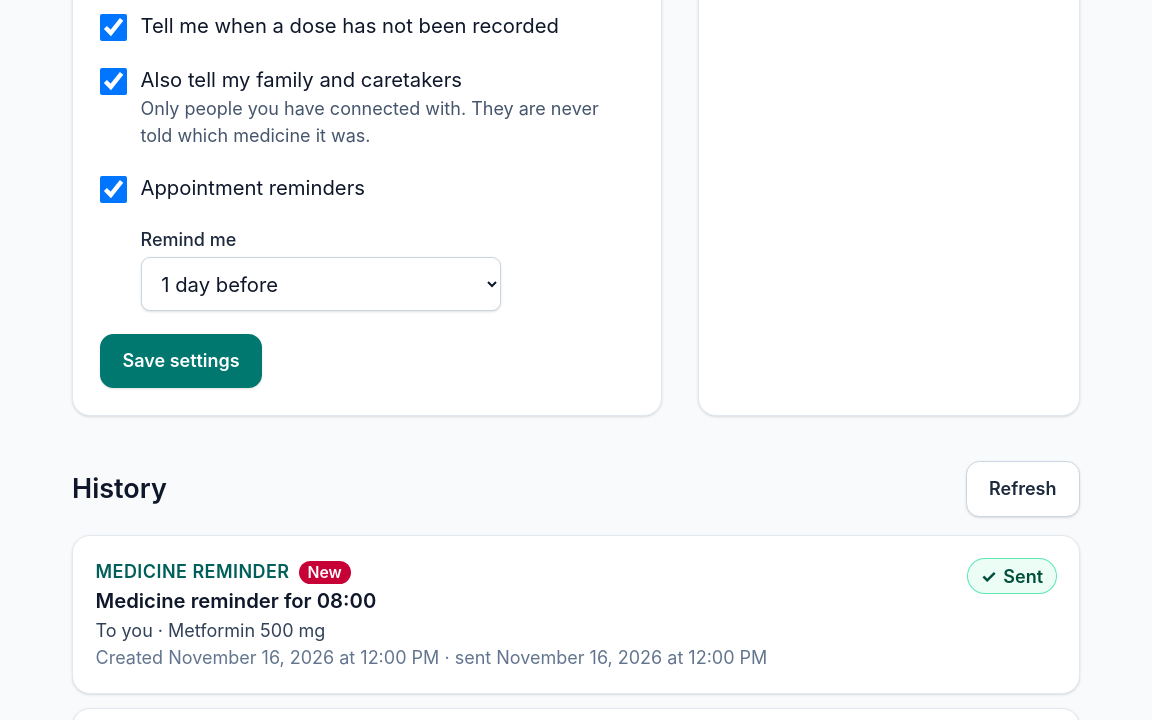
Test: notifications page › reports a save failure
The image size is (1152, 720).
(page scrolled)
Click the button "Save settings" at (181, 361), box [100,334,262,388]
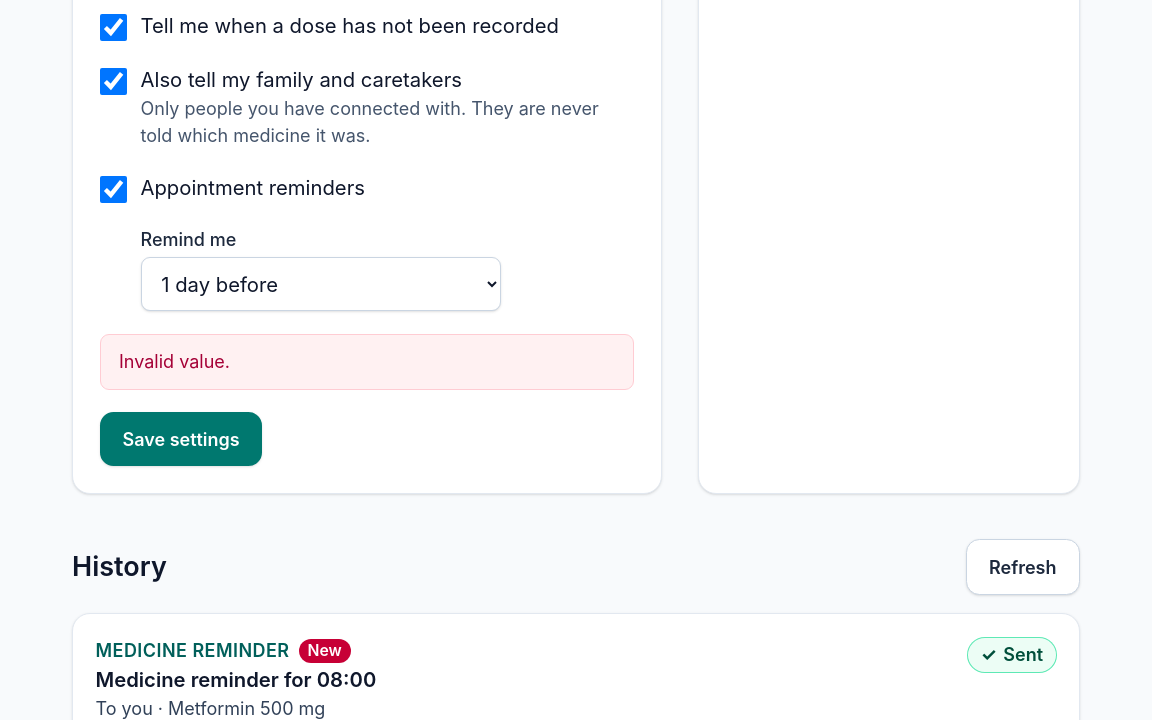
Expected: the message reads "Invalid value.", [119,351,230,372]
